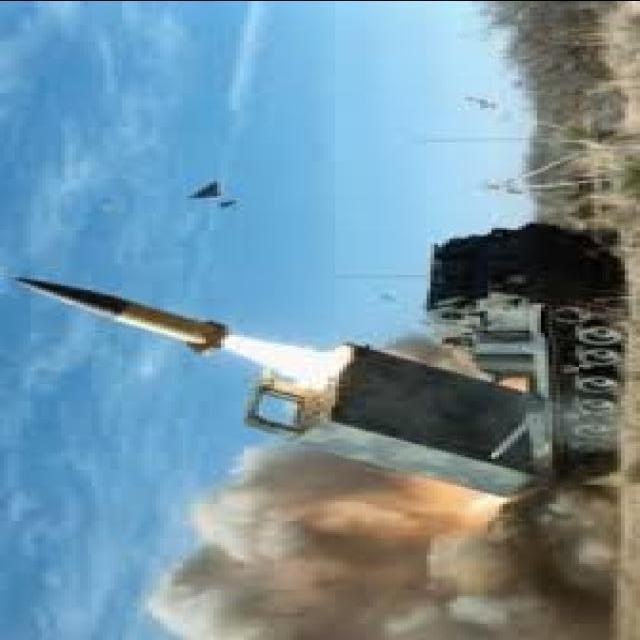missile: (12, 269, 226, 358)
